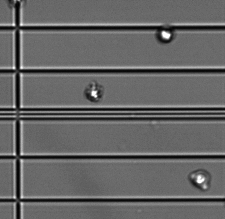Living Cell: (187, 165, 212, 191), (154, 24, 177, 44), (83, 82, 104, 103)
